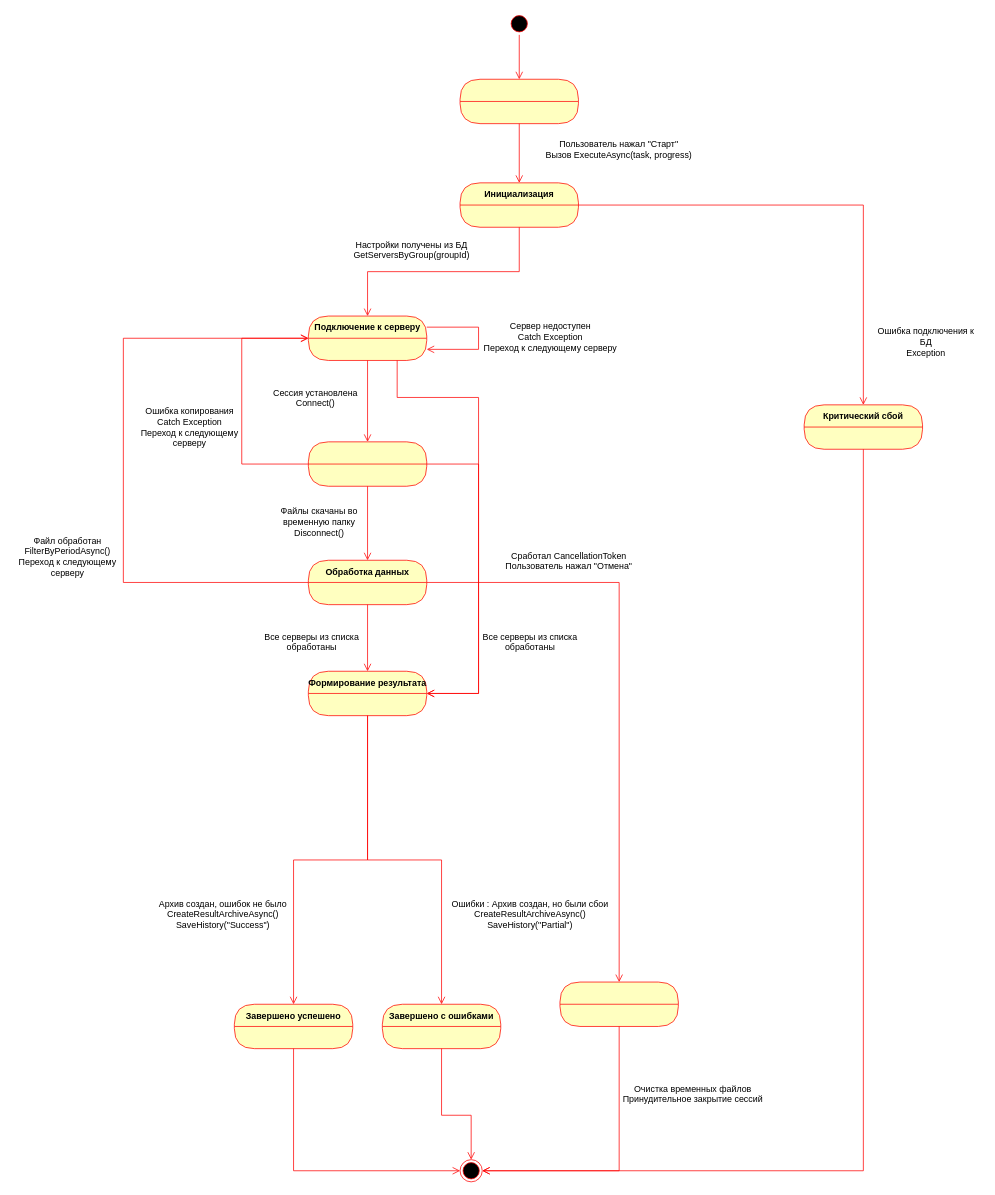
Some shapes in this 995 by 1195 pixel diagram are drawn without their labels. The shapes that lost their labels are listed below. From the top down, each one's centre as x and y in pixels, then its label:
At pixel 518 101: "Ожидание запуска".
At pixel 367 463: "Копирование файлов".
At pixel 618 1003: "Отменено пользователем".
